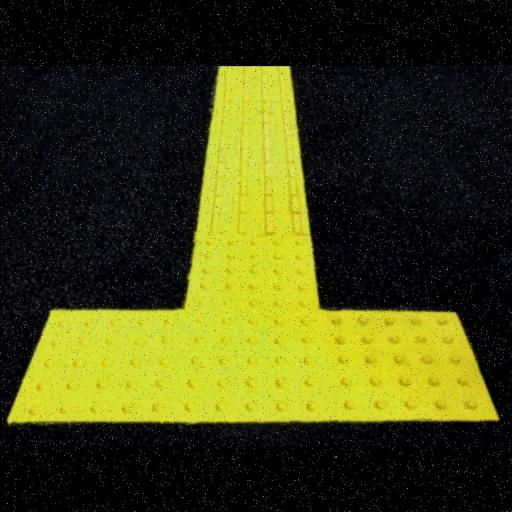dot: (5, 234, 499, 423)
